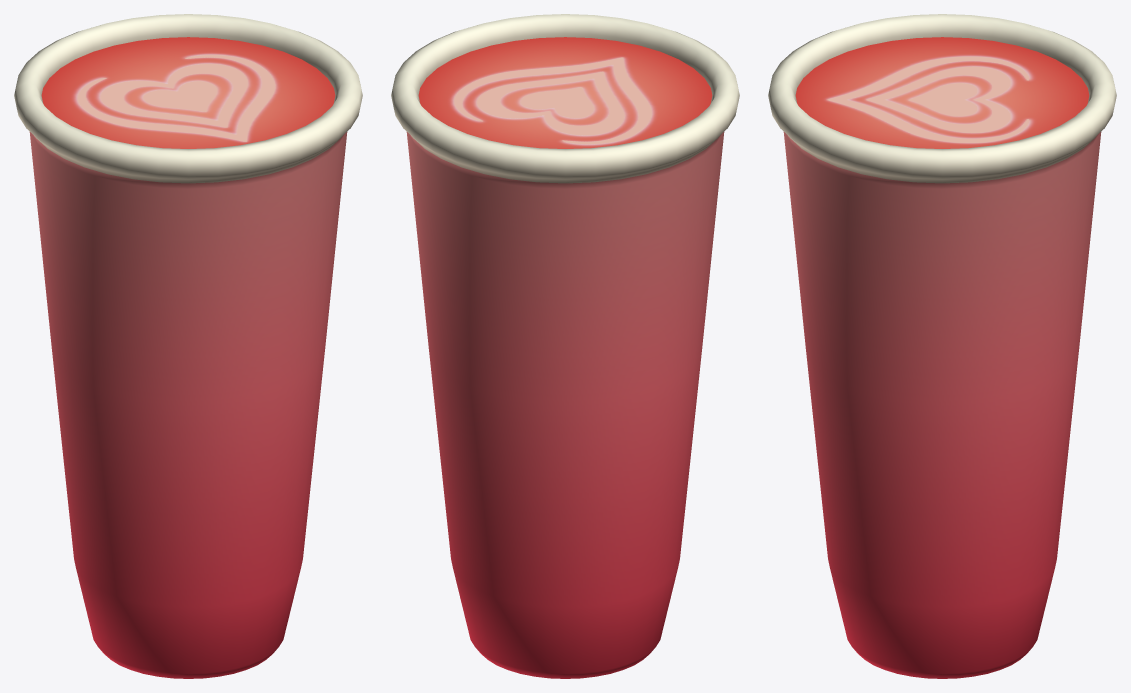
Rendered from Cup_06.fbx.
3 renders of one model, left to right at view 1: azimuth 30°, elevation 25°; view 2: azimuth 150°, elevation 25°; view 3: azimuth 270°, elevation 25°, orthographic.
Parts seen in each view (by area): view 1: Cup_06, Cup_06_Top; view 2: Cup_06, Cup_06_Top; view 3: Cup_06, Cup_06_Top.
Part boxes in pixels (left/top/right/bottom): Cup_06: left=14, top=14, right=362, bottom=678; Cup_06_Top: left=41, top=37, right=335, bottom=148; Cup_06: left=391, top=14, right=739, bottom=678; Cup_06_Top: left=418, top=37, right=712, bottom=148; Cup_06: left=768, top=14, right=1116, bottom=678; Cup_06_Top: left=795, top=37, right=1089, bottom=148.
Size of the model in its own units: 67.08 by 120 by 67.08.
2 materials, 2 textured.
